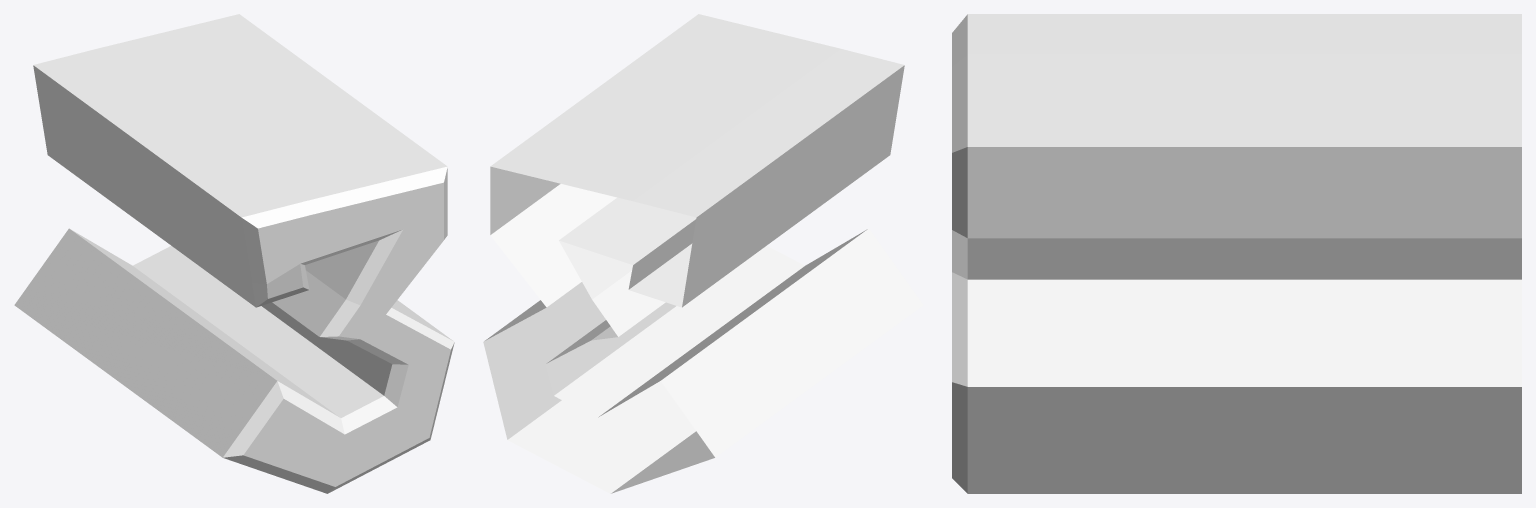
Rendered from Number03.fbx.
3 renders of one model, left to right at view 1: azimuth 30°, elevation 25°; view 2: azimuth 150°, elevation 25°; view 3: azimuth 270°, elevation 25°, orthographic. The views are drawn at different scales.
Visible parts, largest first — view 1: Number03_Model; view 2: Number03_Model; view 3: Number03_Model.
Part boxes in pixels (x1,y1,x2,y2): Number03_Model: [14, 14, 454, 493]; Number03_Model: [483, 14, 923, 493]; Number03_Model: [952, 14, 1521, 493].
Bounding box in the file's own units: 92.16 × 113 × 147.
1 material, 1 textured.
